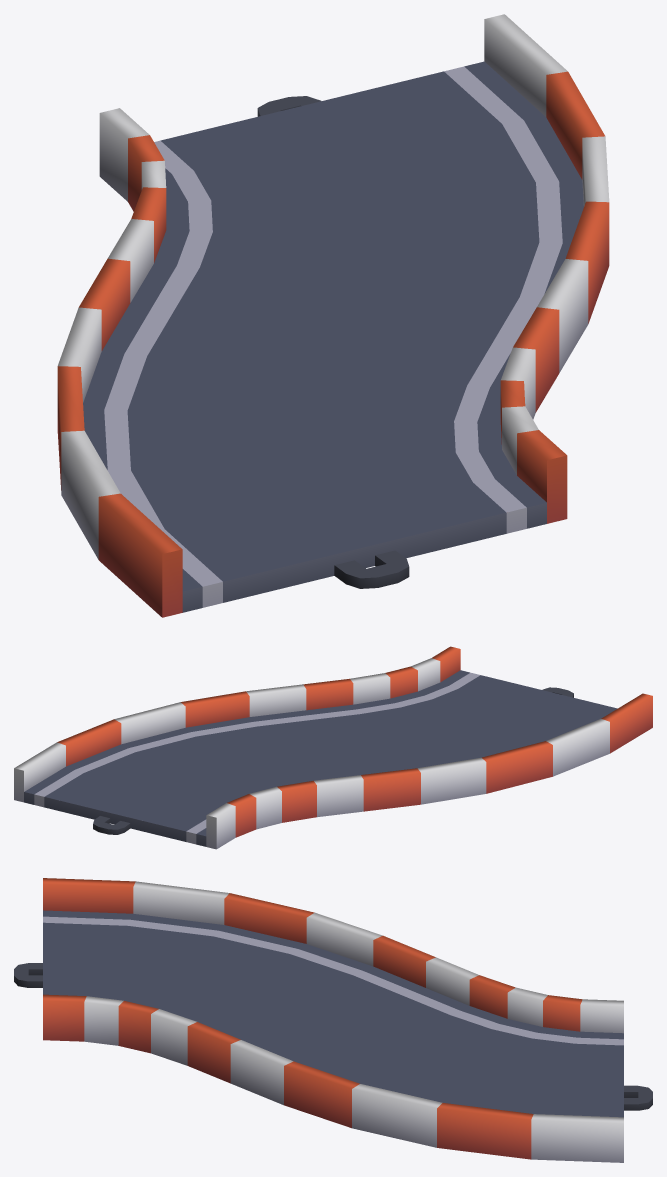
The model's file is track-road-wide-curve.glb.
3 renders of one model, top to bottom at view 1: azimuth 30°, elevation 25°; view 2: azimuth 150°, elevation 25°; view 3: azimuth 270°, elevation 25°, orthographic. The views are drawn at different scales.
Visible parts, largest first — view 1: track-road-wide-curve; view 2: track-road-wide-curve; view 3: track-road-wide-curve.
Boxes of the visible parts, bbox=[...] form: track-road-wide-curve: bbox=[57, 14, 609, 617]; track-road-wide-curve: bbox=[14, 646, 652, 849]; track-road-wide-curve: bbox=[14, 878, 652, 1162].
Bounding box in the file's own units: 4 × 0.3 × 4.4.
